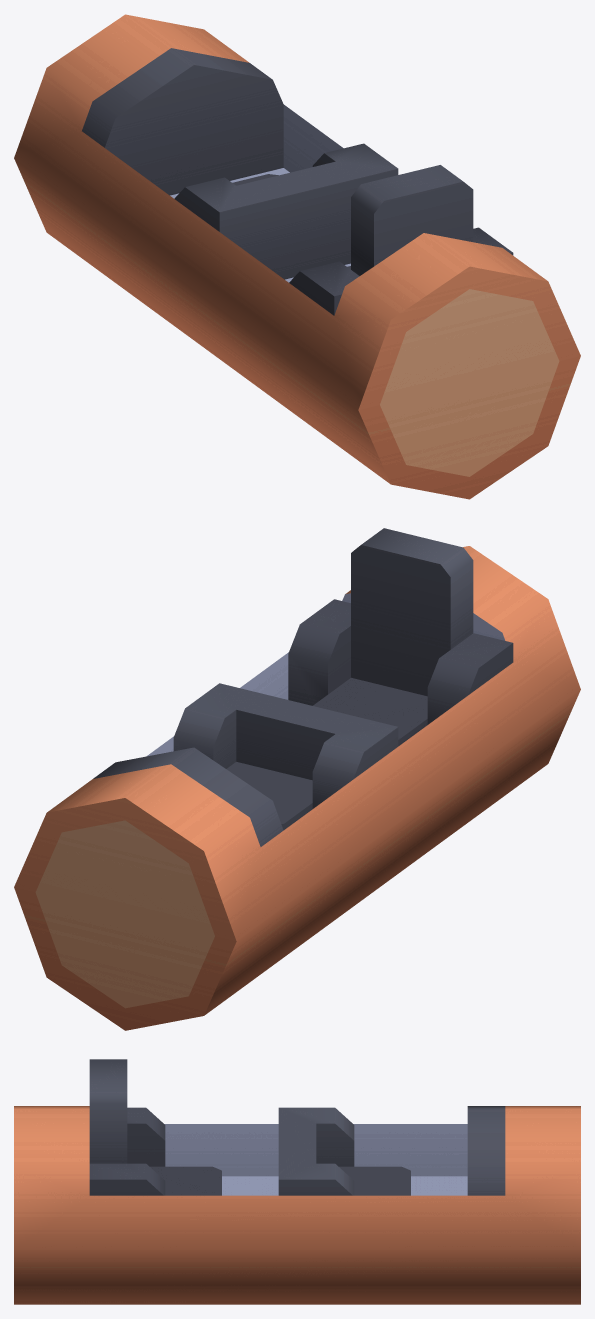
The model's file is train-log-flume.glb.
The picture shows the model from 3 angles, top to bottom: view 1: azimuth 30°, elevation 25°; view 2: azimuth 150°, elevation 25°; view 3: azimuth 270°, elevation 25°; orthographic projection. The views are drawn at different scales.
Parts seen in each view (by area): view 1: train-log-flume; view 2: train-log-flume; view 3: train-log-flume.
Boxes of the visible parts, box(x1,y1,x2,y2) form: train-log-flume: box(14, 14, 580, 499); train-log-flume: box(14, 528, 580, 1030); train-log-flume: box(14, 1059, 580, 1304).
Bounding box in the file's own units: 1.68 × 1.98 × 4.5.
1 material, 1 textured.
